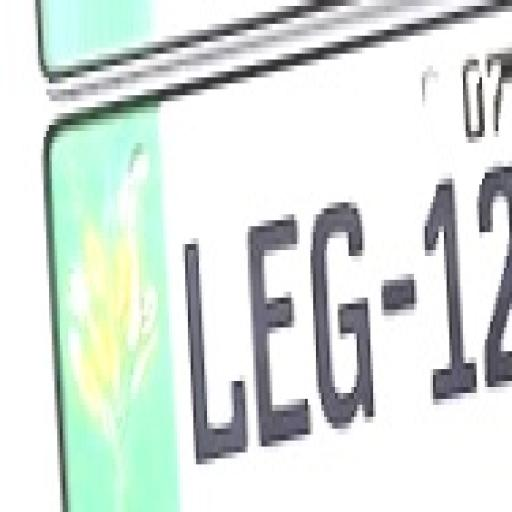1: (414, 162, 475, 437)
2: (478, 154, 512, 411)
E: (250, 211, 314, 463)
G: (307, 202, 377, 454)
L: (179, 232, 246, 468)
